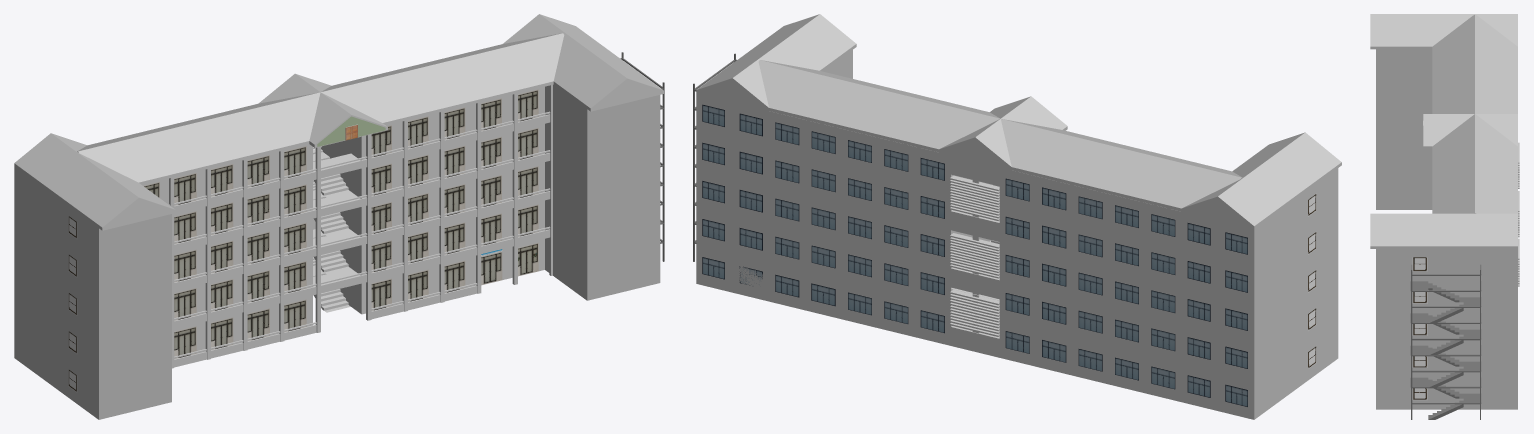
Rendered from ky tuc B1.fbx.
The picture shows the model from 3 angles, left to right: view 1: azimuth 30°, elevation 25°; view 2: azimuth 150°, elevation 25°; view 3: azimuth 270°, elevation 25°; orthographic projection. The views are drawn at different scales.
Visible parts, largest first — view 1: B1; view 2: B1; view 3: B1.
Boxes of the visible parts, x1=… form: B1: x1=14, y1=14, x2=664, y2=419; B1: x1=693, y1=14, x2=1341, y2=419; B1: x1=1370, y1=14, x2=1519, y2=419.
Size of the model in its own units: 9608 by 3380 by 2530.
